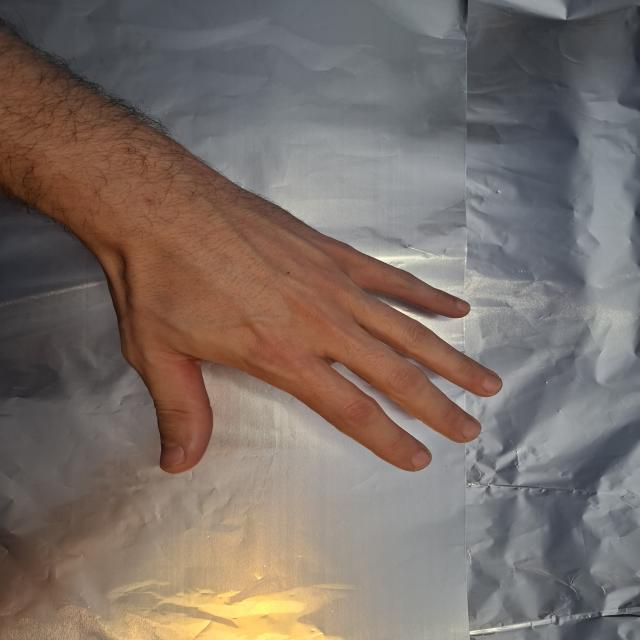glove_off: (66, 211, 505, 474)
